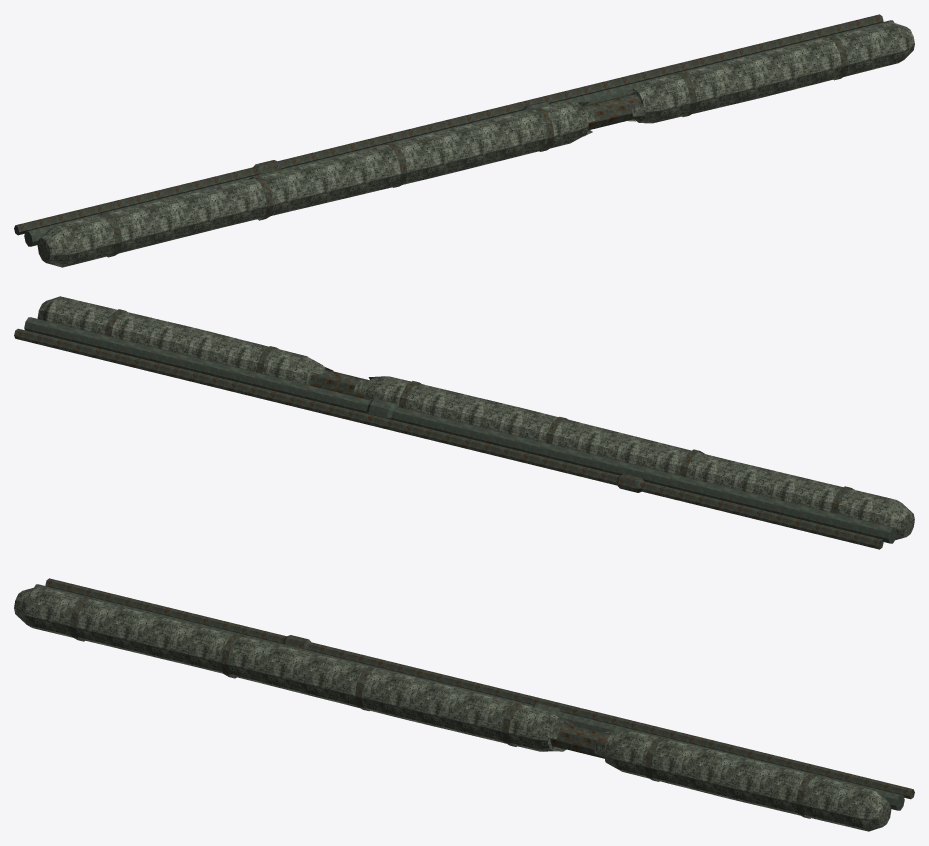
The model's file is SM_PipeRun_Lagged_4m.fbx.
The picture shows the model from 3 angles, top to bottom: view 1: azimuth 30°, elevation 25°; view 2: azimuth 150°, elevation 25°; view 3: azimuth 330°, elevation 25°; orthographic projection.
Visible parts, largest first — view 1: SM_PipeRun_Lagged_4m; view 2: SM_PipeRun_Lagged_4m; view 3: SM_PipeRun_Lagged_4m.
Boxes of the visible parts, box(x1,y1,x2,y2) form: SM_PipeRun_Lagged_4m: box(14, 14, 914, 267); SM_PipeRun_Lagged_4m: box(14, 296, 914, 549); SM_PipeRun_Lagged_4m: box(14, 578, 914, 831).
Size of the model in its own units: 4 by 0.1712 by 0.34.
